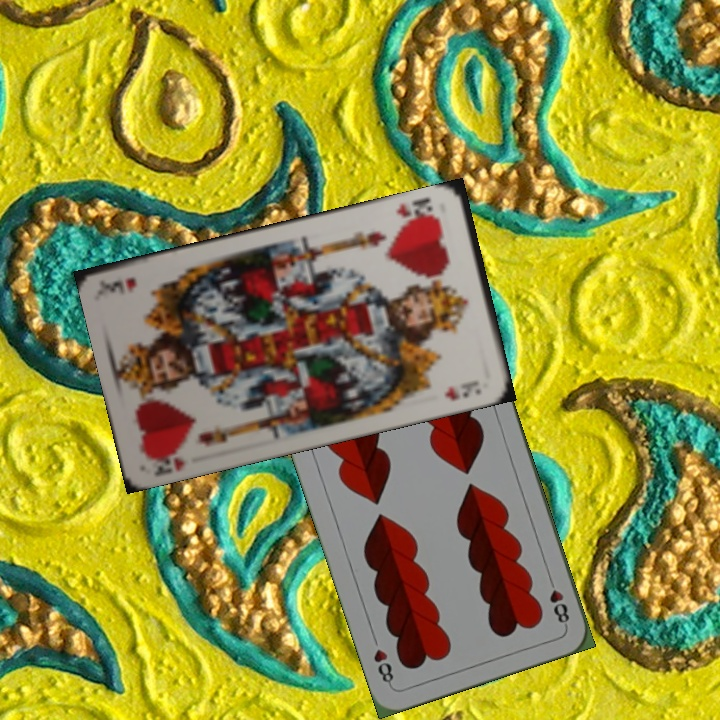H8: (543, 571, 572, 629)
HK: (392, 193, 442, 228), (149, 443, 189, 478)
